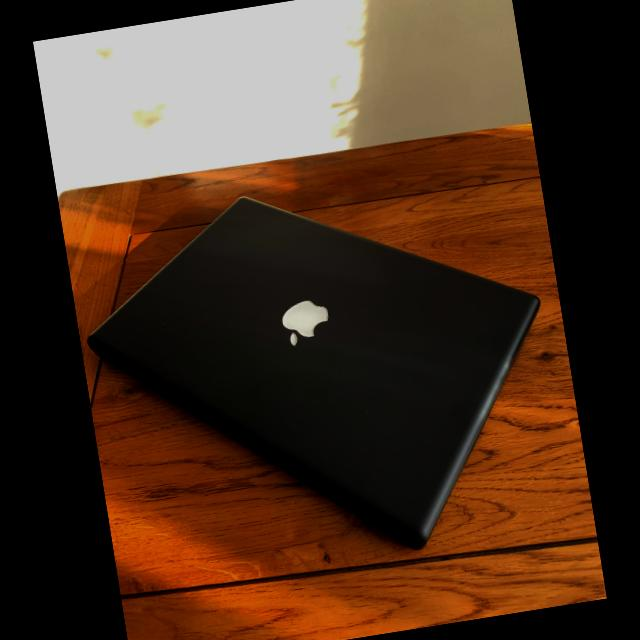laptop: (62, 148, 586, 612)
